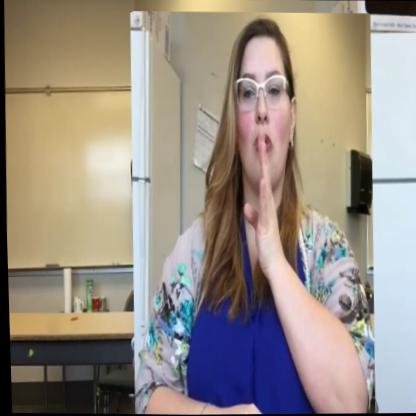Talk: (122, 9, 379, 415)
